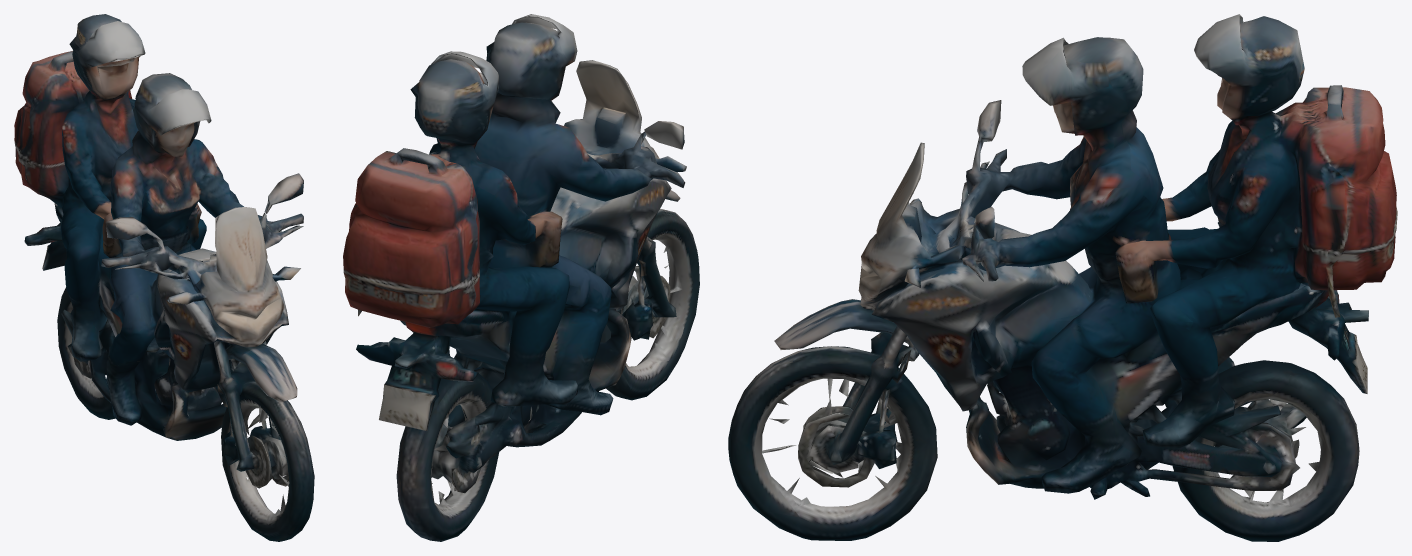
The model's file is motor_dokkes_2.glb.
3 views of the same model, side by side, from view 1: azimuth 30°, elevation 25°; view 2: azimuth 150°, elevation 25°; view 3: azimuth 270°, elevation 25° (orthographic). The views are drawn at different scales.
Visible parts, largest first — view 1: tripo_node_27a9529c; view 2: tripo_node_27a9529c; view 3: tripo_node_27a9529c.
Boxes of the visible parts, <box> form: tripo_node_27a9529c: <box>14,14,314,541</box>; tripo_node_27a9529c: <box>343,14,699,541</box>; tripo_node_27a9529c: <box>728,14,1397,541</box>.
Bounding box in the file's own units: 44.36 × 85.41 × 100.
1 material, 1 textured.
